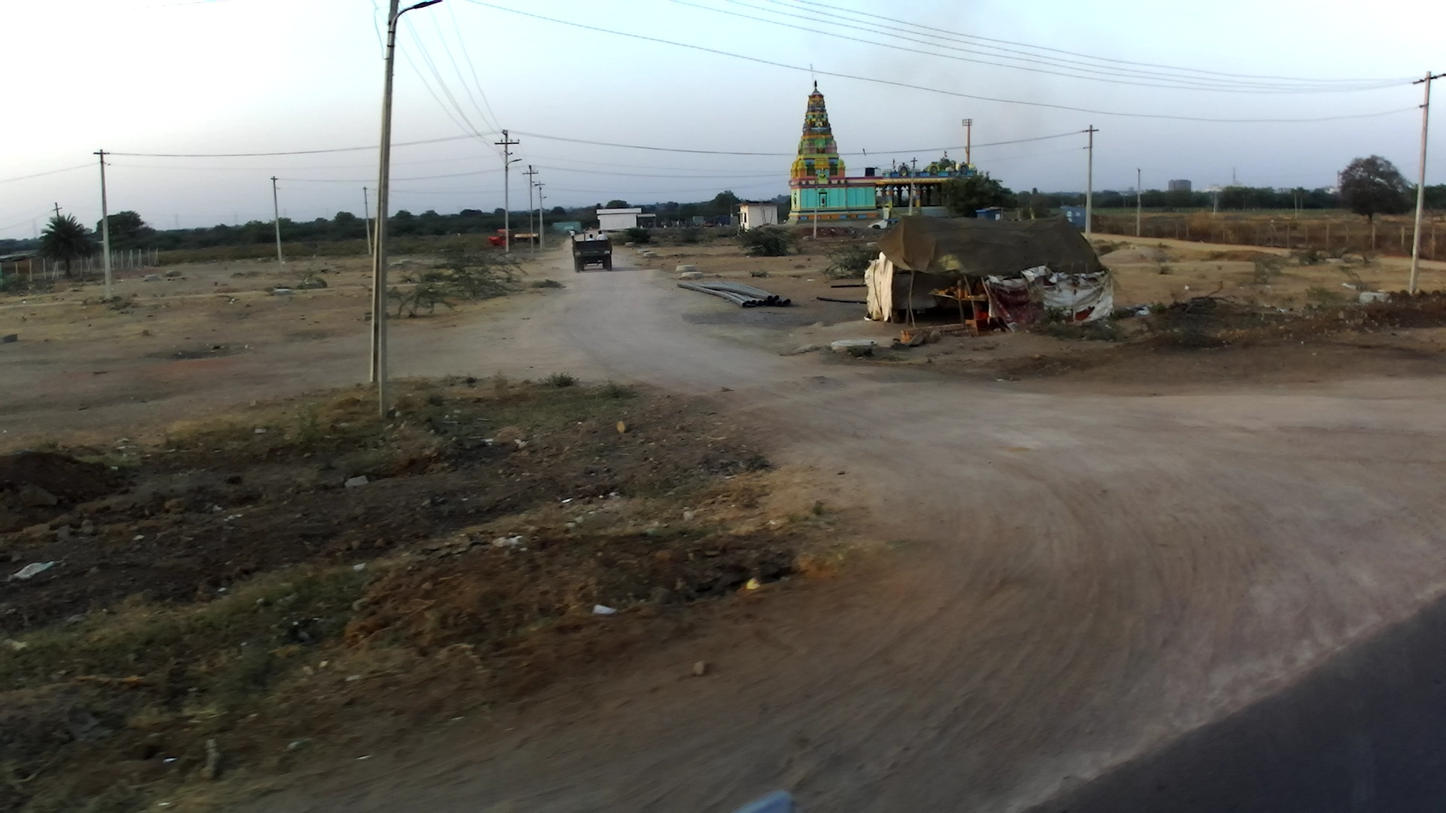person: (569, 228, 575, 243)
rider: (596, 230, 607, 239), (586, 233, 596, 241)
vehicle fallback: (571, 229, 614, 272), (487, 227, 540, 250)
